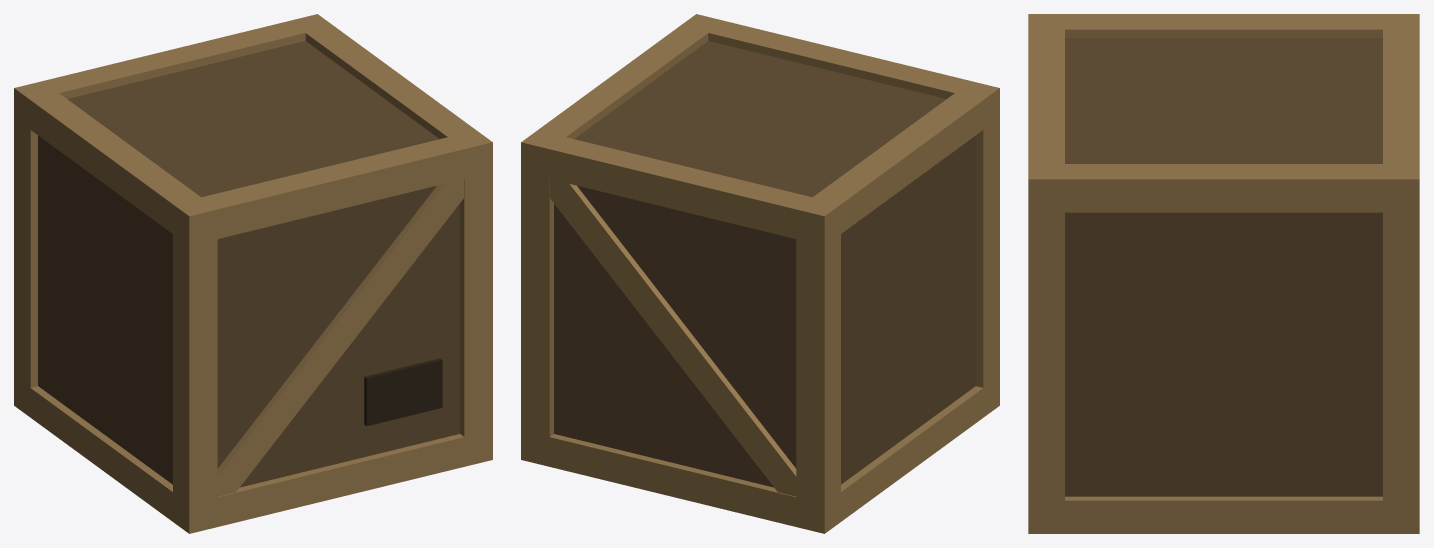
The model's file is crate.glb.
3 views of the same model, side by side, from view 1: azimuth 30°, elevation 25°; view 2: azimuth 150°, elevation 25°; view 3: azimuth 270°, elevation 25° (orthographic). The views are drawn at different scales.
Visible parts, largest first — view 1: crate; view 2: crate; view 3: crate.
Boxes of the visible parts, x1,y1,x2,y2 form: crate: (14,14,492,533); crate: (521,14,999,533); crate: (1028,14,1419,533).
Bounding box in the file's own units: 0.8 × 0.8 × 0.8.
